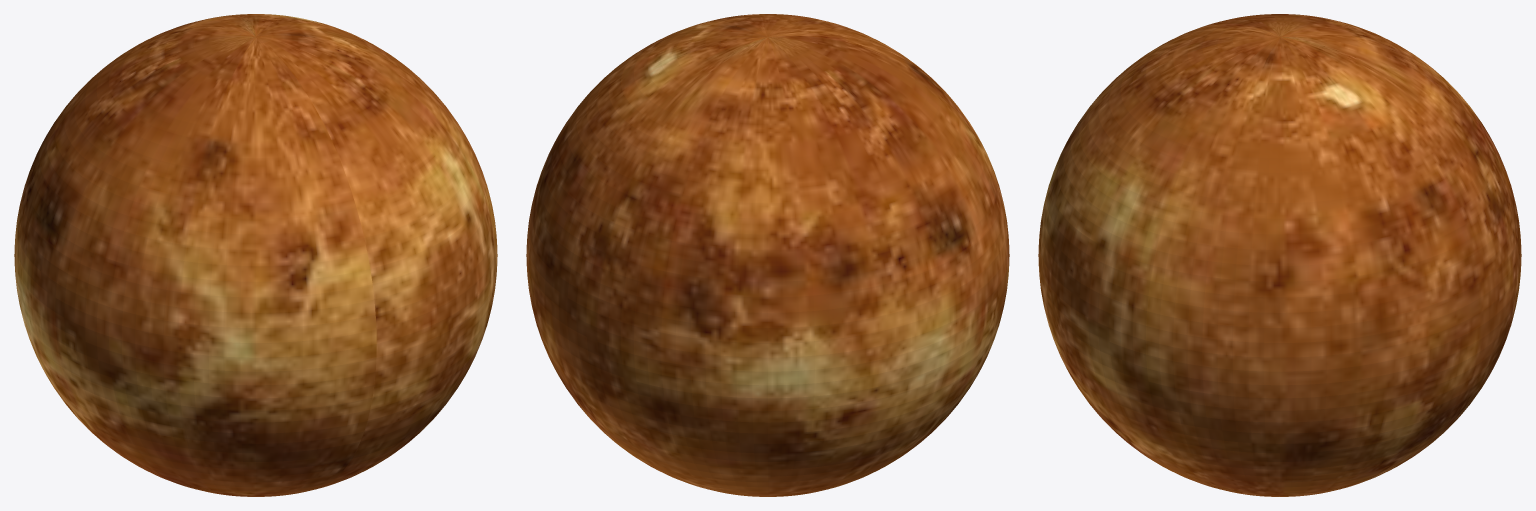
The model's file is mars.obj.
3 renders of one model, left to right at view 1: azimuth 30°, elevation 25°; view 2: azimuth 150°, elevation 25°; view 3: azimuth 270°, elevation 25°, orthographic.
Parts seen in each view (by area): view 1: Sphere; view 2: Sphere; view 3: Sphere.
Part boxes in pixels (<box>): Sphere: <box>14,14,497,496</box>; Sphere: <box>526,14,1009,496</box>; Sphere: <box>1038,14,1521,496</box>.
Size of the model in its own units: 2 by 2 by 2.
1 material, 1 textured.
